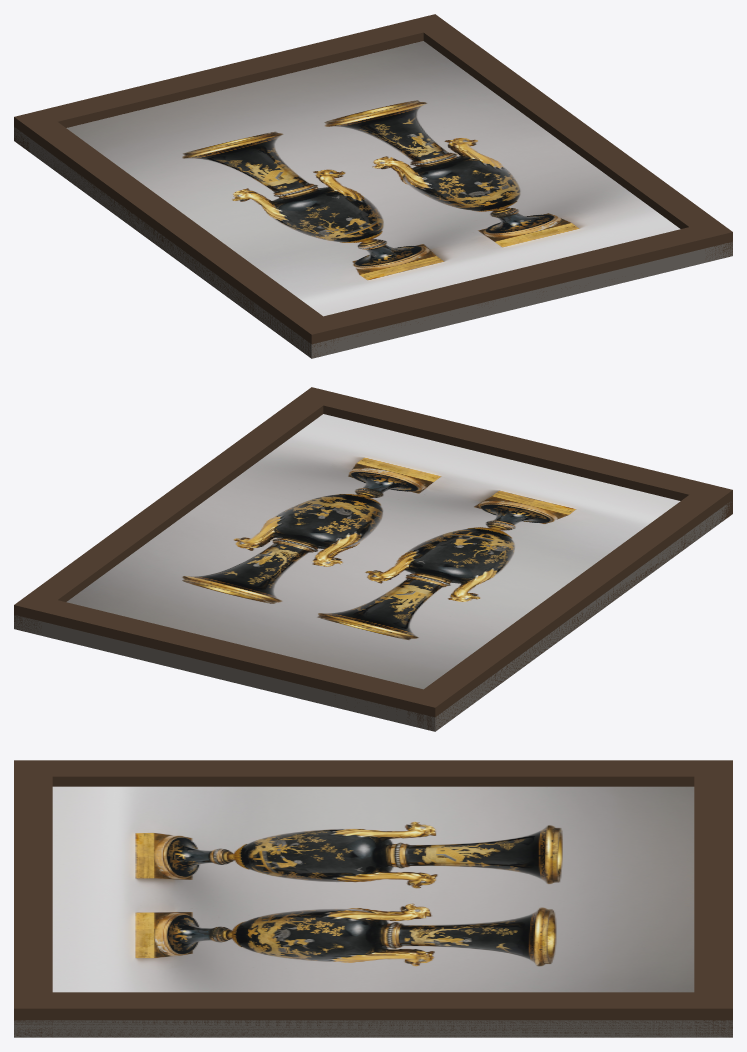
The model's file is framed_artwork.glb.
3 views of the same model, one above another, from view 1: azimuth 30°, elevation 25°; view 2: azimuth 150°, elevation 25°; view 3: azimuth 270°, elevation 25° (orthographic). The views are drawn at different scales.
Visible parts, largest first — view 1: Artwork_Image_Front, Frame_Left, Back_Board, Frame_Bottom, Frame_Right, Frame_Top; view 2: Artwork_Image_Front, Frame_Left, Back_Board, Frame_Right, Frame_Bottom, Frame_Top; view 3: Artwork_Image_Front, Frame_Right, Frame_Left, Back_Board, Frame_Bottom, Frame_Top.
Boxes of the visible parts, bbox=[...] form: Artwork_Image_Front: bbox=[66, 41, 680, 316]; Frame_Left: bbox=[14, 110, 339, 357]; Back_Board: bbox=[14, 127, 732, 358]; Frame_Bottom: bbox=[296, 220, 732, 344]; Frame_Right: bbox=[408, 14, 732, 260]; Frame_Top: bbox=[14, 14, 449, 151]; Artwork_Image_Front: bbox=[66, 414, 680, 689]; Frame_Left: bbox=[407, 484, 731, 730]; Back_Board: bbox=[14, 502, 731, 731]; Frame_Right: bbox=[14, 389, 336, 632]; Frame_Bottom: bbox=[296, 387, 732, 523]; Frame_Top: bbox=[14, 593, 442, 717]; Artwork_Image_Front: bbox=[52, 786, 694, 992]; Frame_Right: bbox=[14, 992, 732, 1037]; Frame_Left: bbox=[14, 760, 732, 786]; Back_Board: bbox=[14, 1020, 732, 1037]; Frame_Bottom: bbox=[14, 760, 52, 1037]; Frame_Top: bbox=[694, 760, 732, 1036].
Bounding box in the file's own units: 1.83 × 0.1 × 2.24.
Materials: 3 (1 with a texture image).
